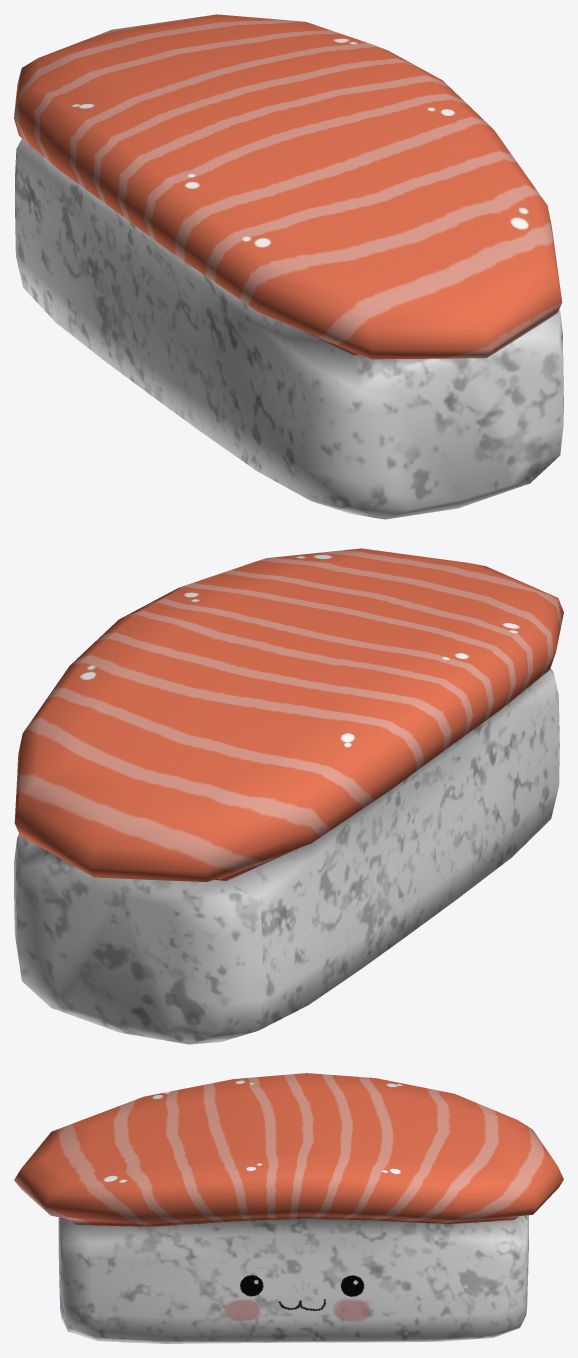
Rendered from nigiri-pozitivni.fbx.
The picture shows the model from 3 angles, top to bottom: view 1: azimuth 30°, elevation 25°; view 2: azimuth 150°, elevation 25°; view 3: azimuth 270°, elevation 25°; orthographic projection. The views are drawn at different scales.
Visible parts, largest first — view 1: nigiri; view 2: nigiri; view 3: nigiri.
Part boxes in pixels (<box>): nigiri: <box>14,14,563,519</box>; nigiri: <box>14,548,563,1044</box>; nigiri: <box>14,1073,563,1343</box>.
Size of the model in its own units: 46.56 by 36.67 by 93.78.
1 material, 1 textured.
